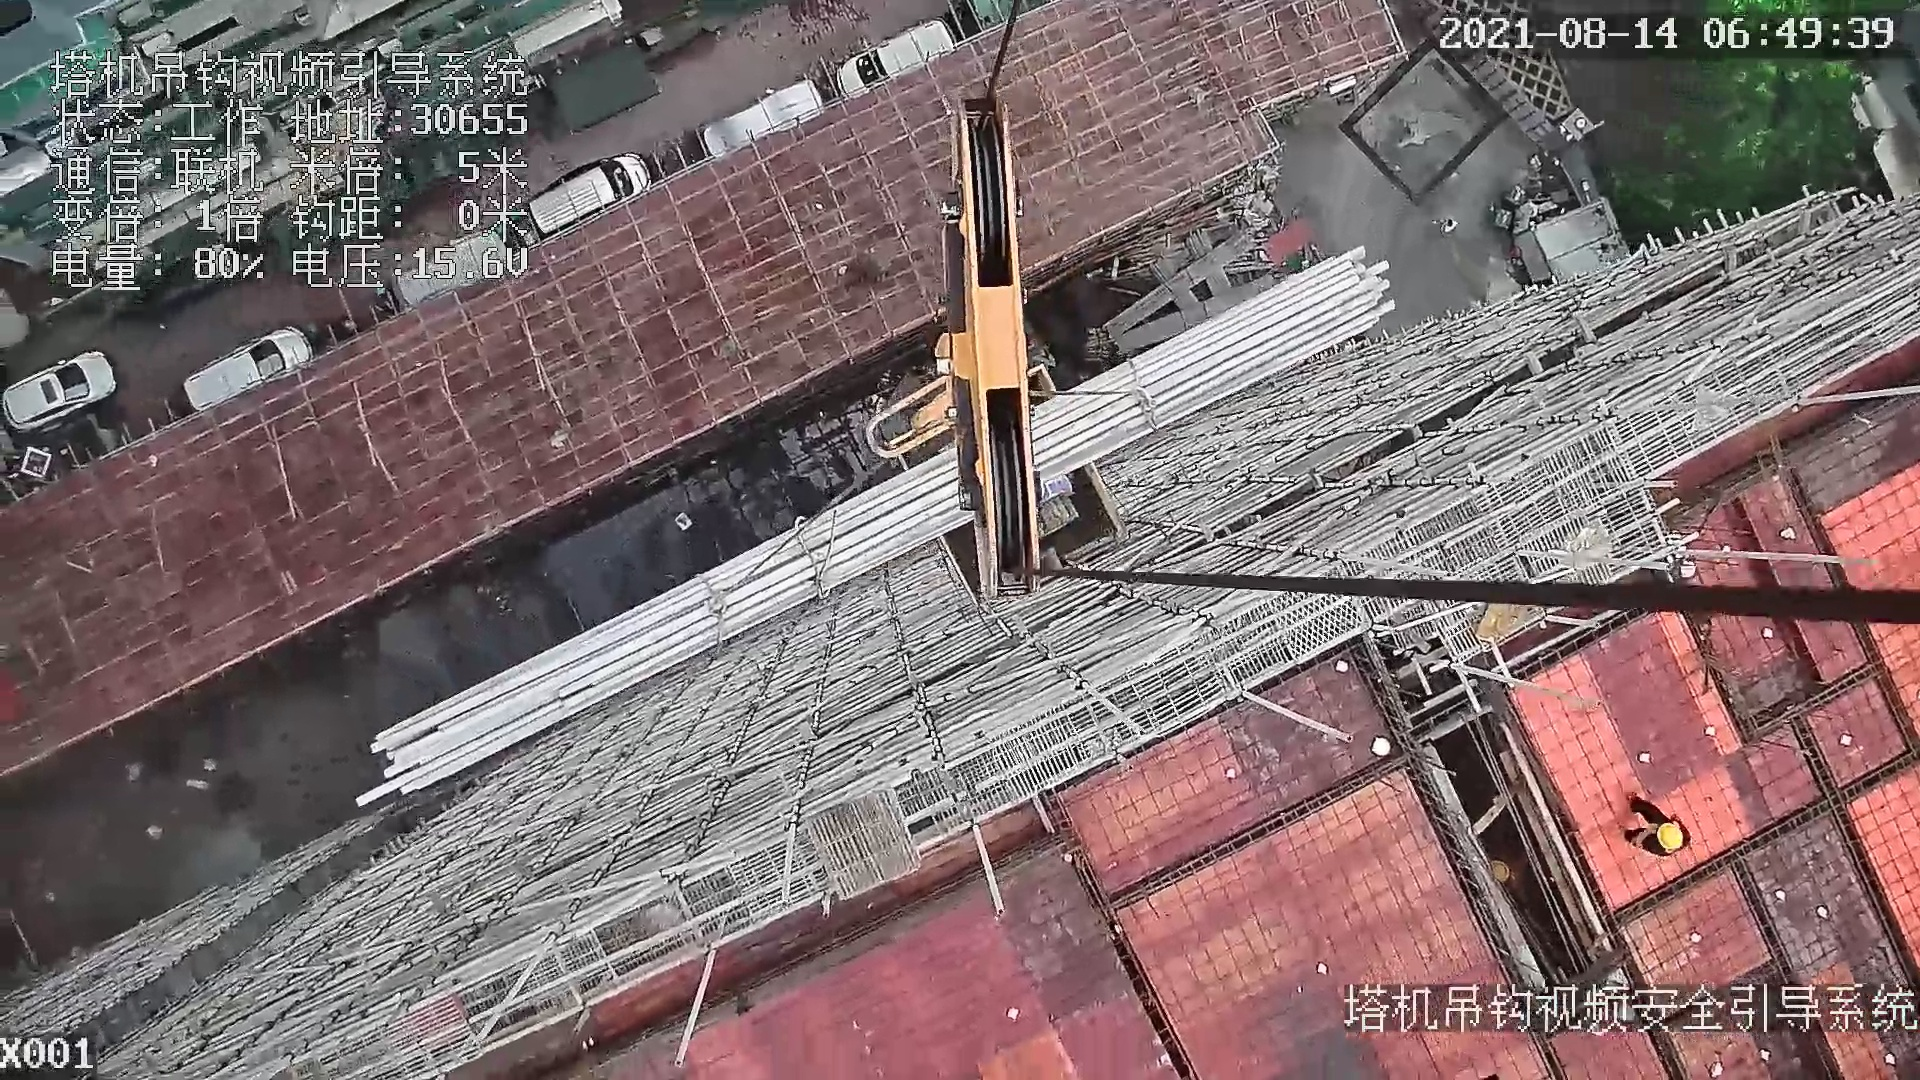helmet: (1653, 803, 1691, 855), (1491, 852, 1529, 893)
hook: (867, 86, 1055, 603)
person: (1628, 790, 1691, 862)
